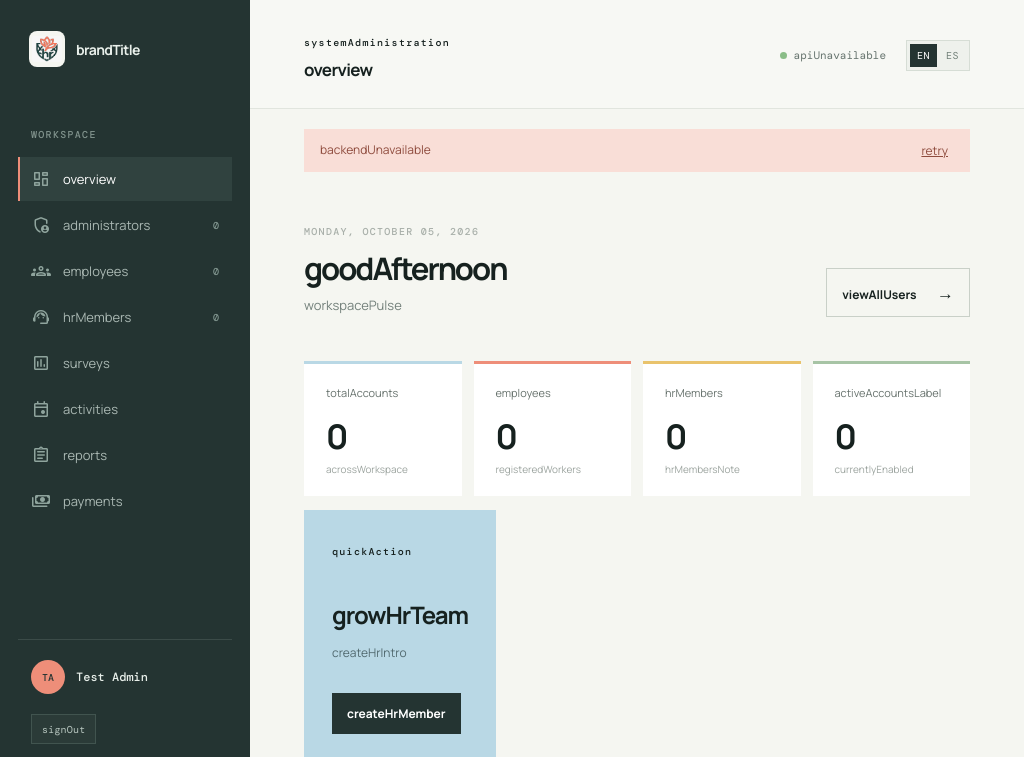
Test: [integration] src/app/App.tsx › retry recovers connection without changing session
Expected: the message "backendUnavailable retry" is shown, [304,129,970,172]
Click the button "retry": {"x": 935, "y": 150} [915,141,954,160]
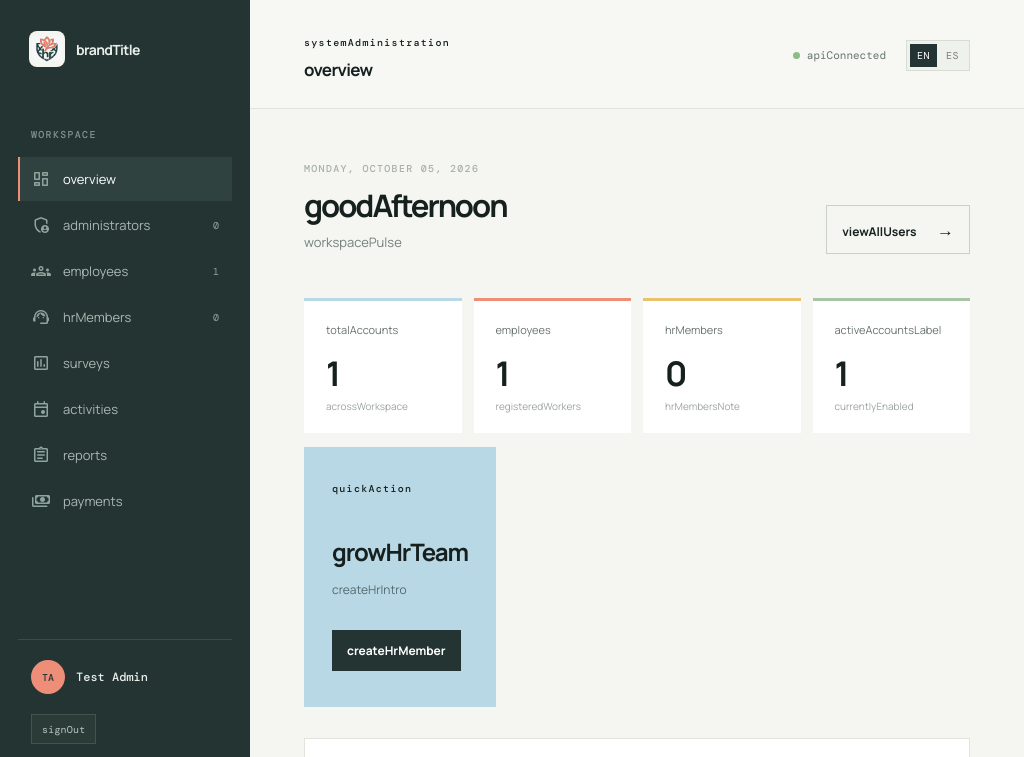
Now the text "apiConnected" is shown, box [793,48,886,62]
Now the message "backendUnavailable retry" is gone
